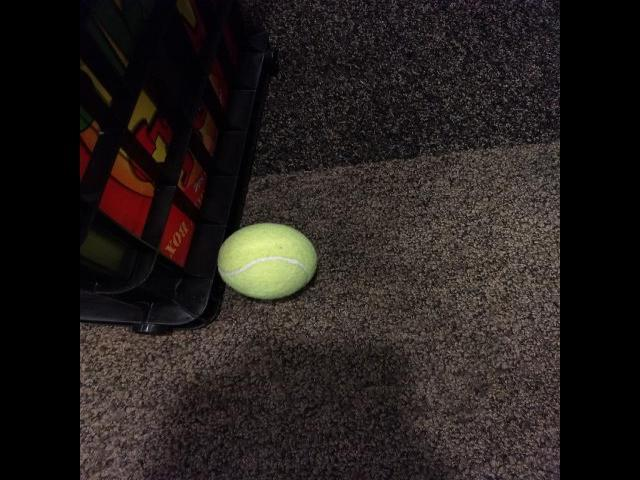tennis-ball: (216, 222, 320, 303)
